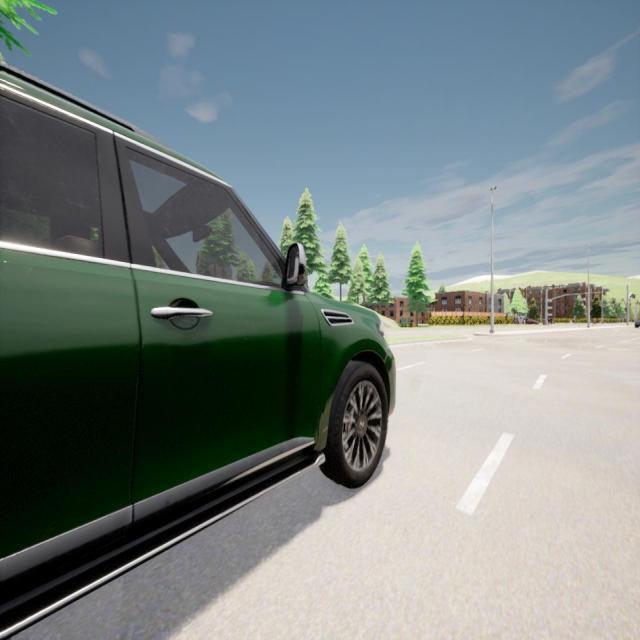Pedestrian: (592, 316, 598, 327)
Vehicle: (0, 63, 396, 637), (515, 316, 527, 324), (526, 318, 538, 324), (635, 318, 640, 328)
traffic_light: (632, 294, 633, 298), (634, 295, 635, 298), (630, 296, 631, 298)
